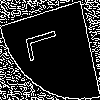L: (25, 25, 68, 63)
